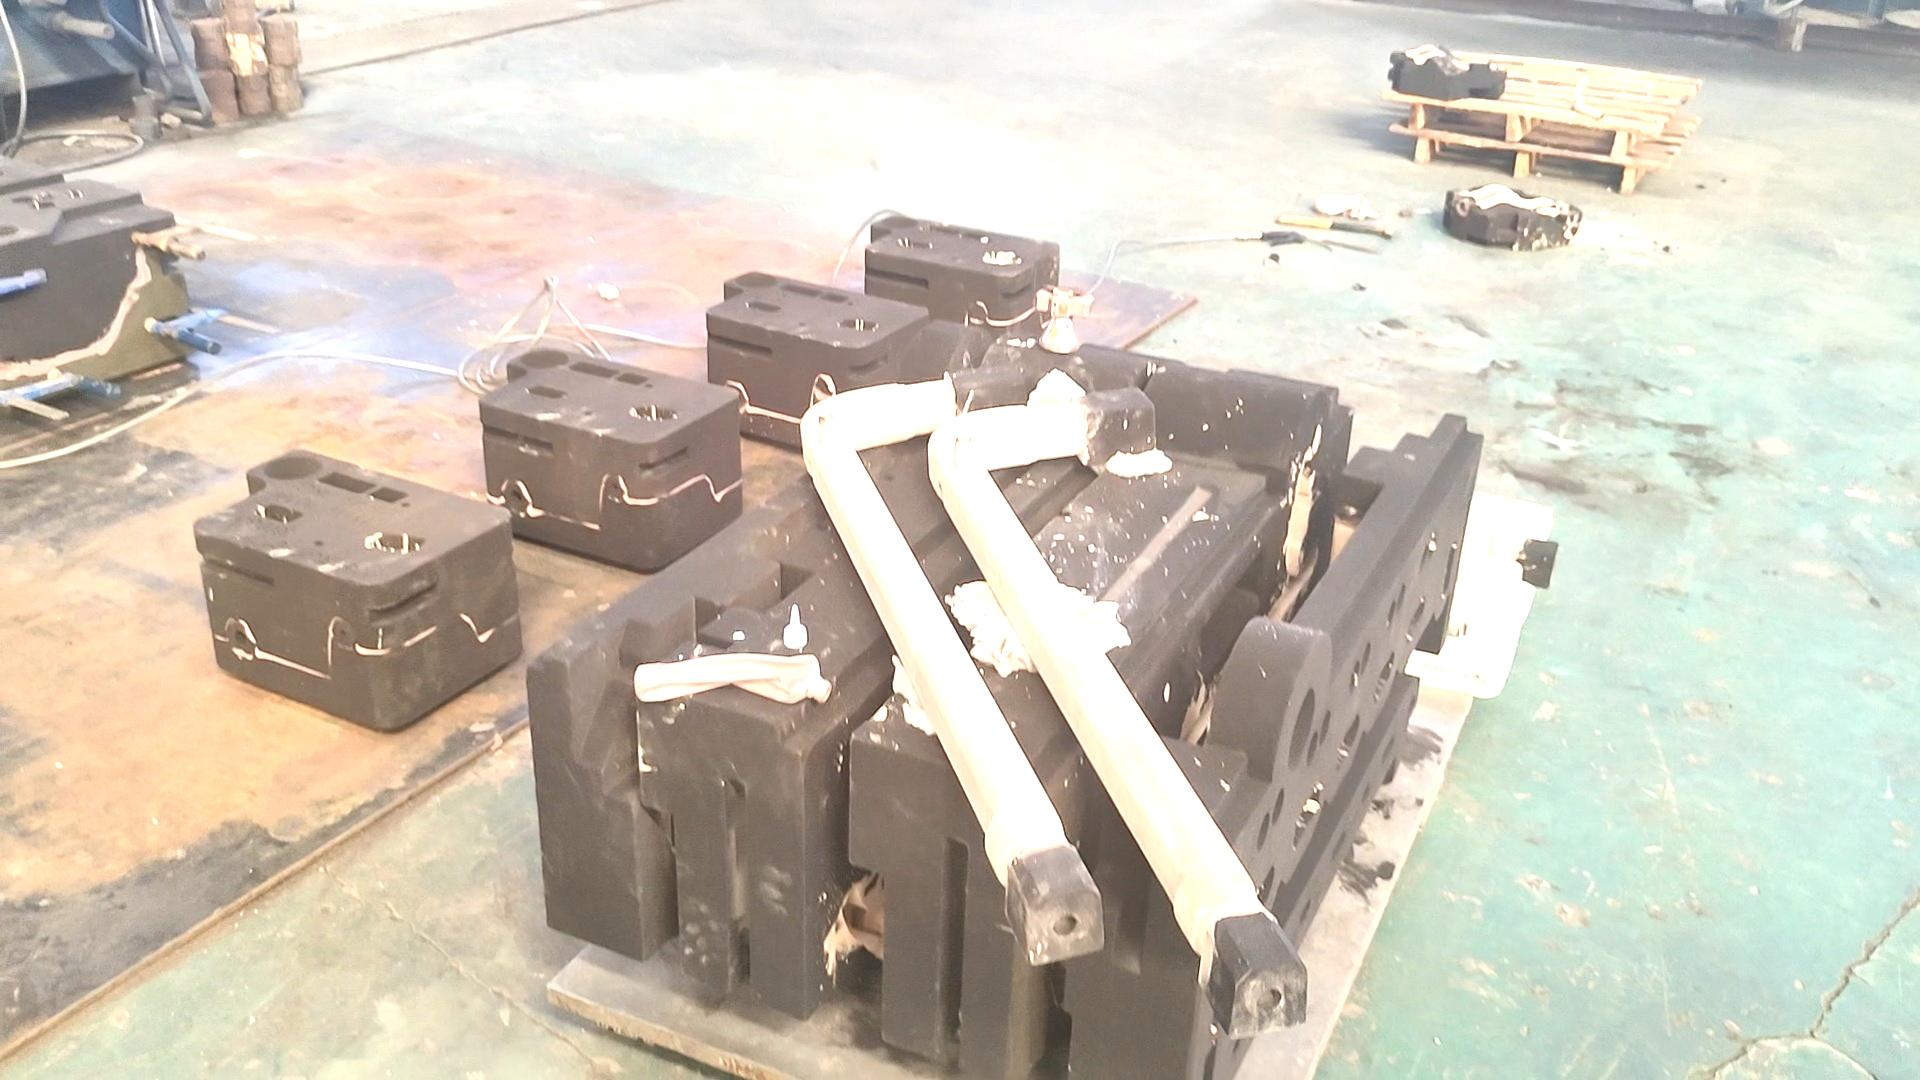pouring hole: (1286, 686, 1317, 767), (262, 455, 323, 479), (517, 348, 568, 369), (735, 273, 778, 287), (882, 215, 918, 229)
